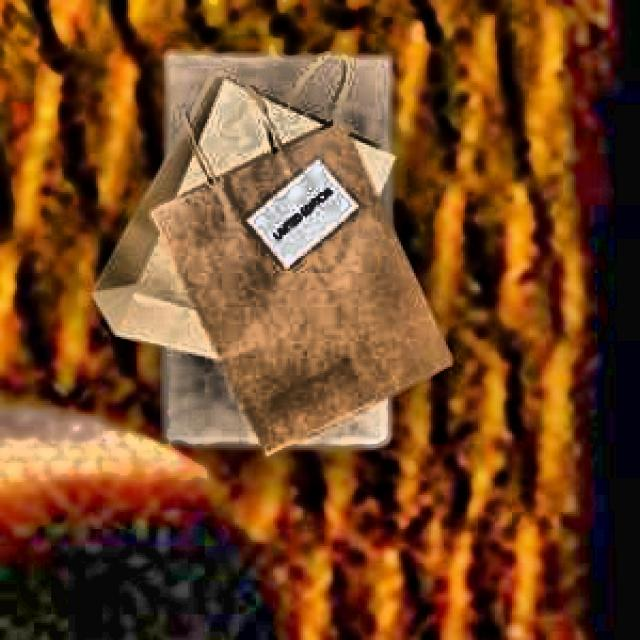Paper-bag: (112, 39, 460, 480)
